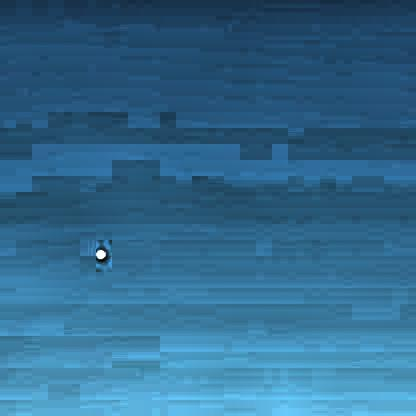golfball: (92, 245, 106, 260)
